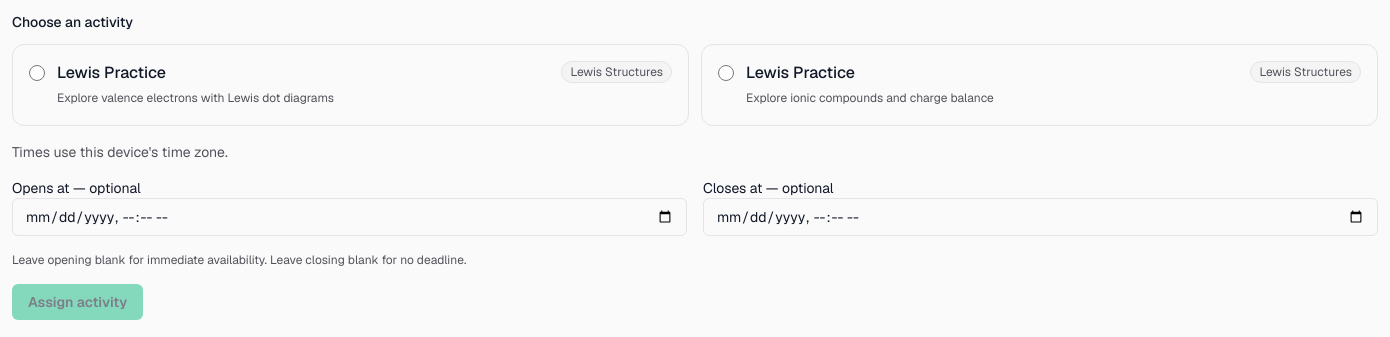
Test: assignment activity selection › distinguishes activities and preserves the selected catalog ID
The width and height of the screenshot is (1390, 337).
Expected: the text "Lewis Practice" is shown 2 times, [57,61,166,85]; [746,61,855,85]
Expected: the text "Lewis Structures" is shown 2 times, [561,61,672,83]; [1250,61,1361,83]
Click the 2nd radio button at (726, 73), box [718,65,734,81]
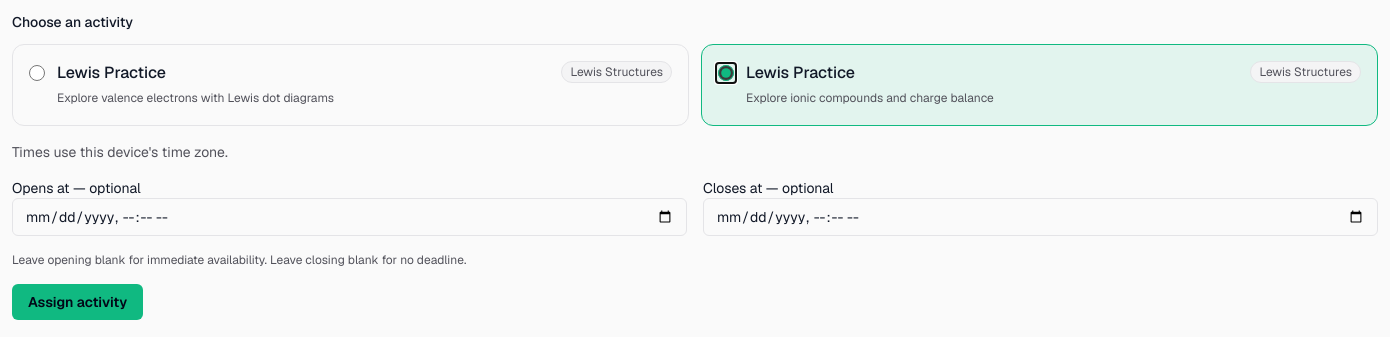
Now the 2nd radio button is checked, box [718,65,734,81]
Now the button "Assign activity" is enabled, box [12,284,143,320]
